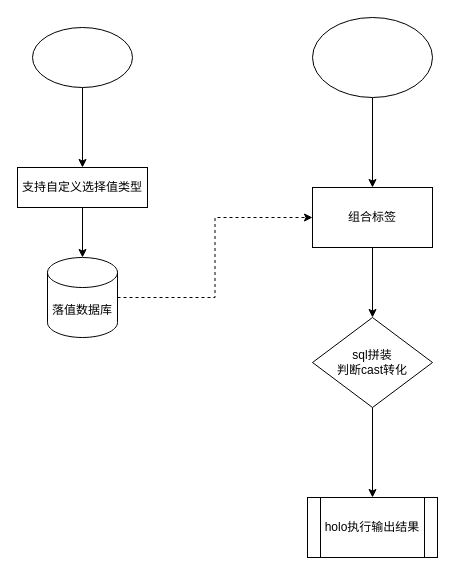
The diagram is 455 pixels wide and 575 high, and some of its shapes have lost their labels. The shapes that lost their labels are listed below. From the top down, each one's centre as x and y in pixels, then its label:
(82,57): 导入标签
(372,57): 人群圈选
